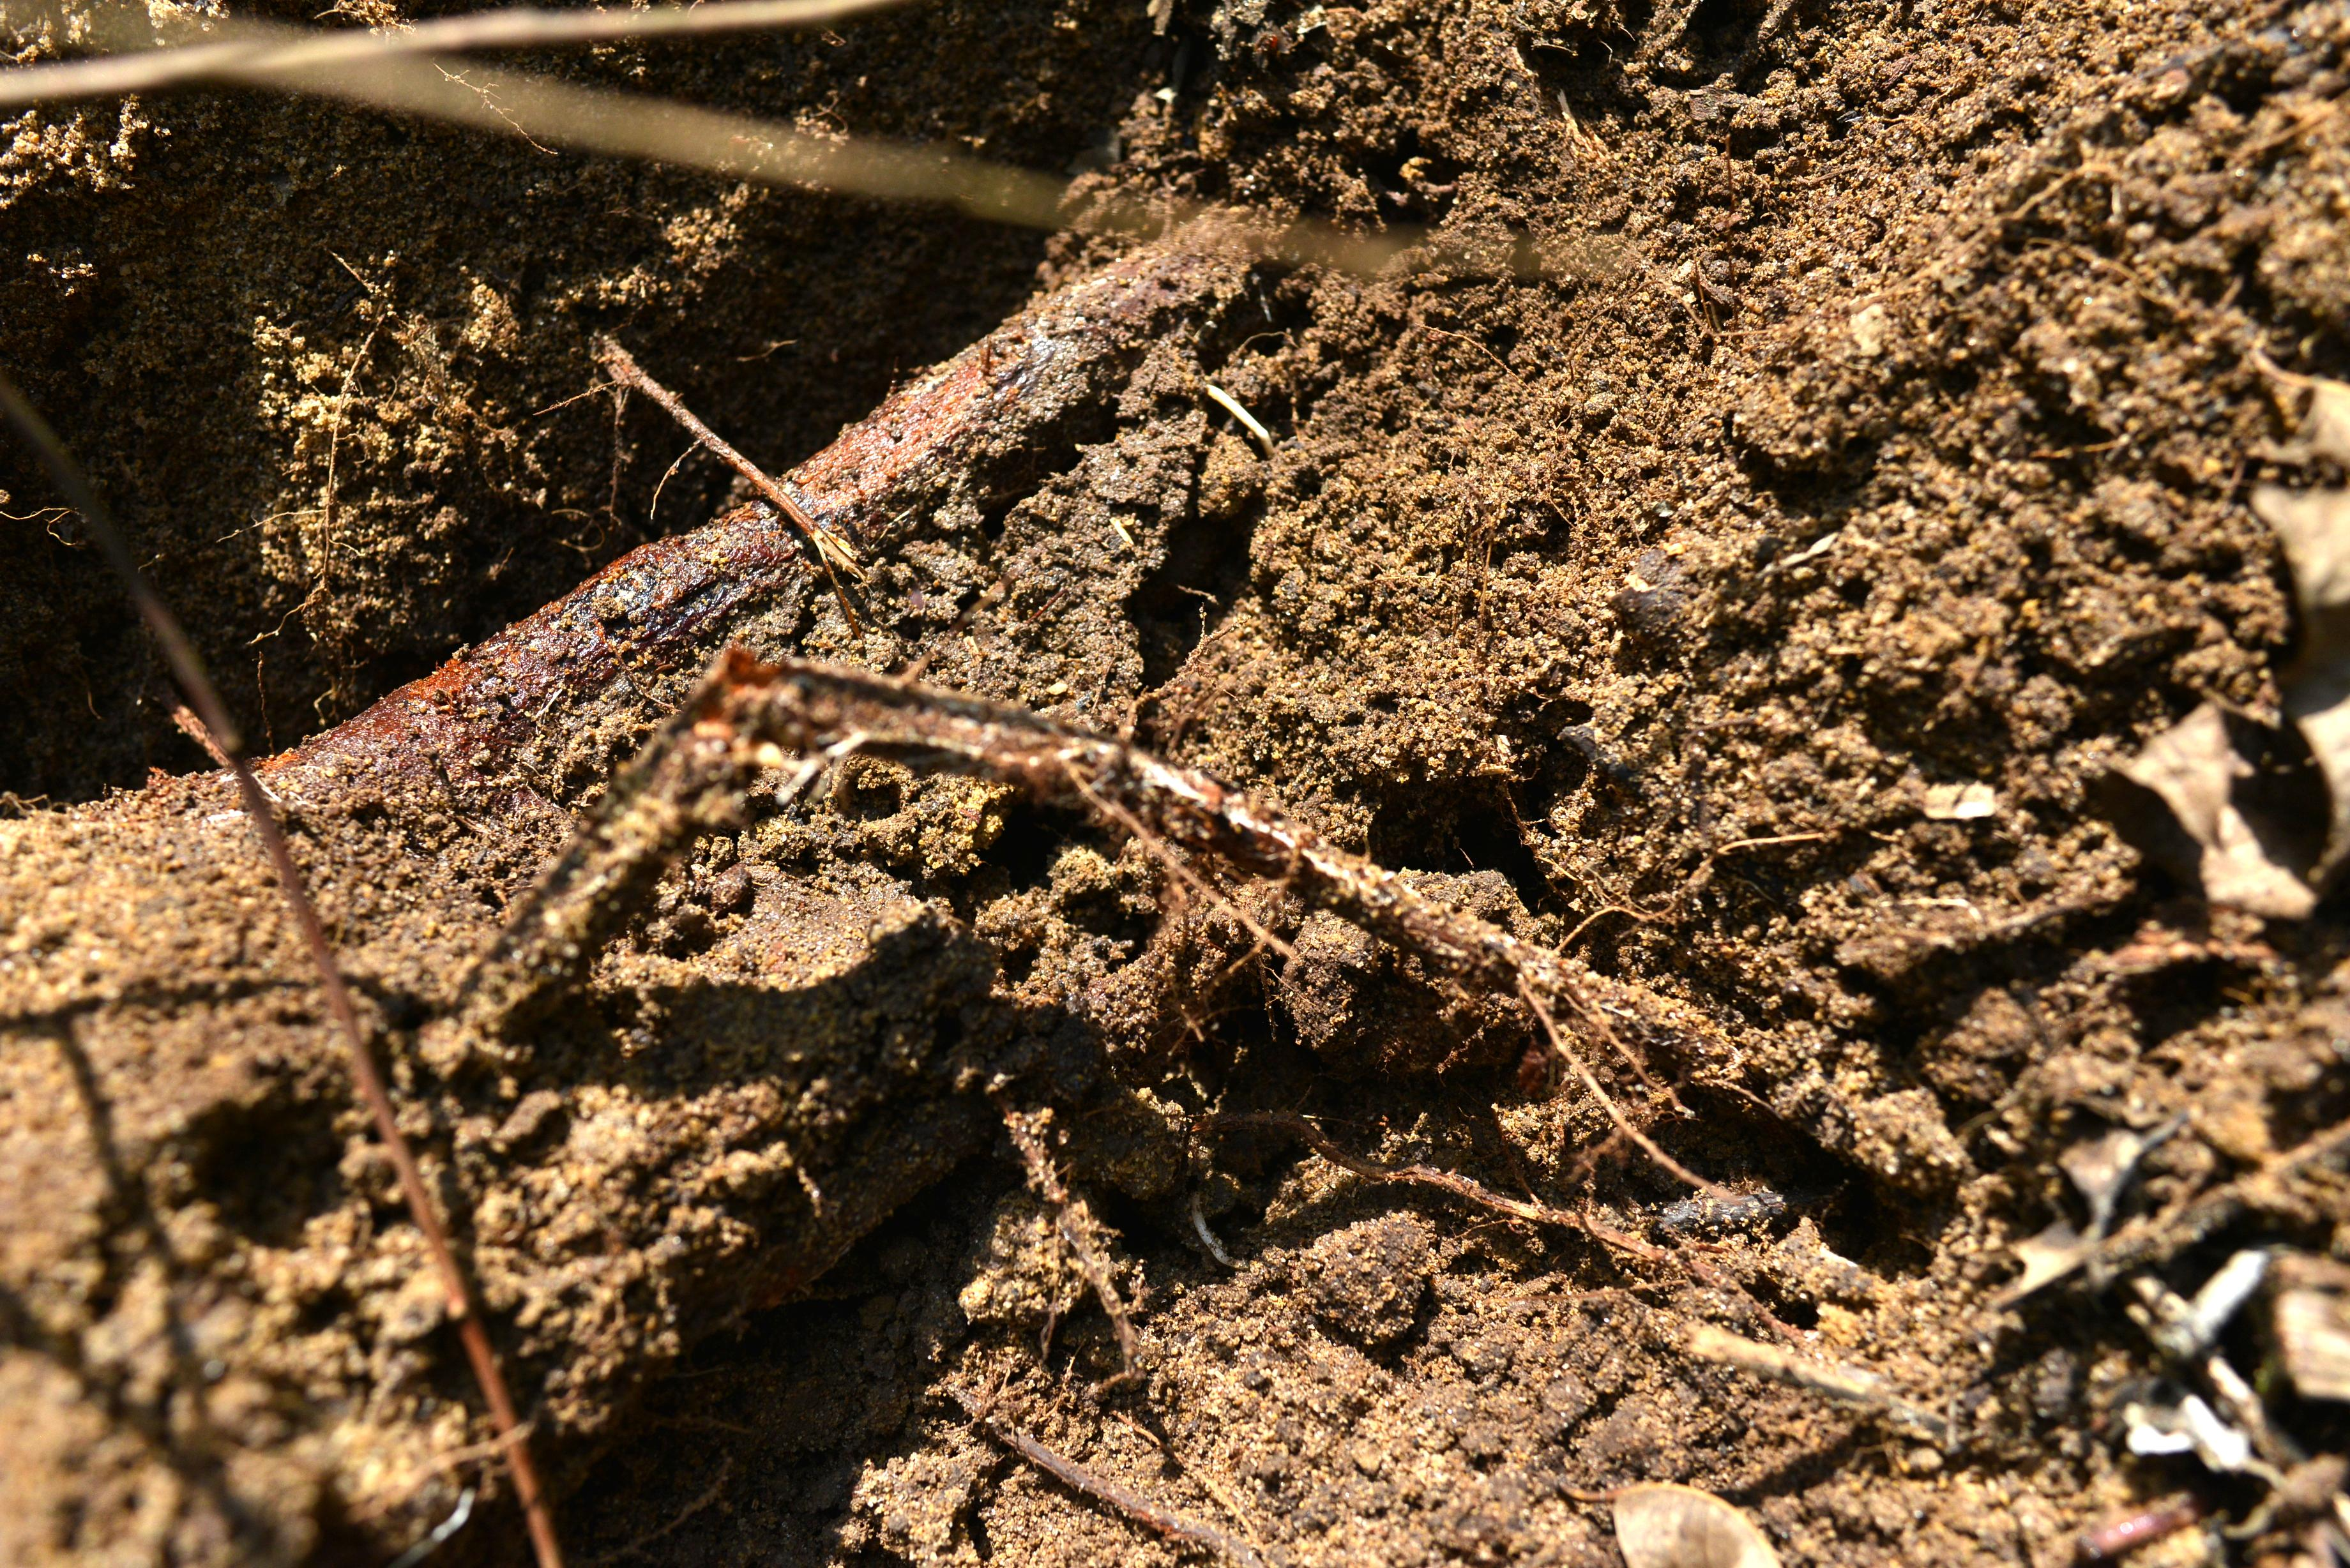Ganoderma - Mycelium: (1118, 728, 1438, 938), (861, 317, 1067, 500), (276, 707, 532, 833), (591, 506, 838, 633)
Red Root Rot - Secretion: (229, 210, 1195, 786)
